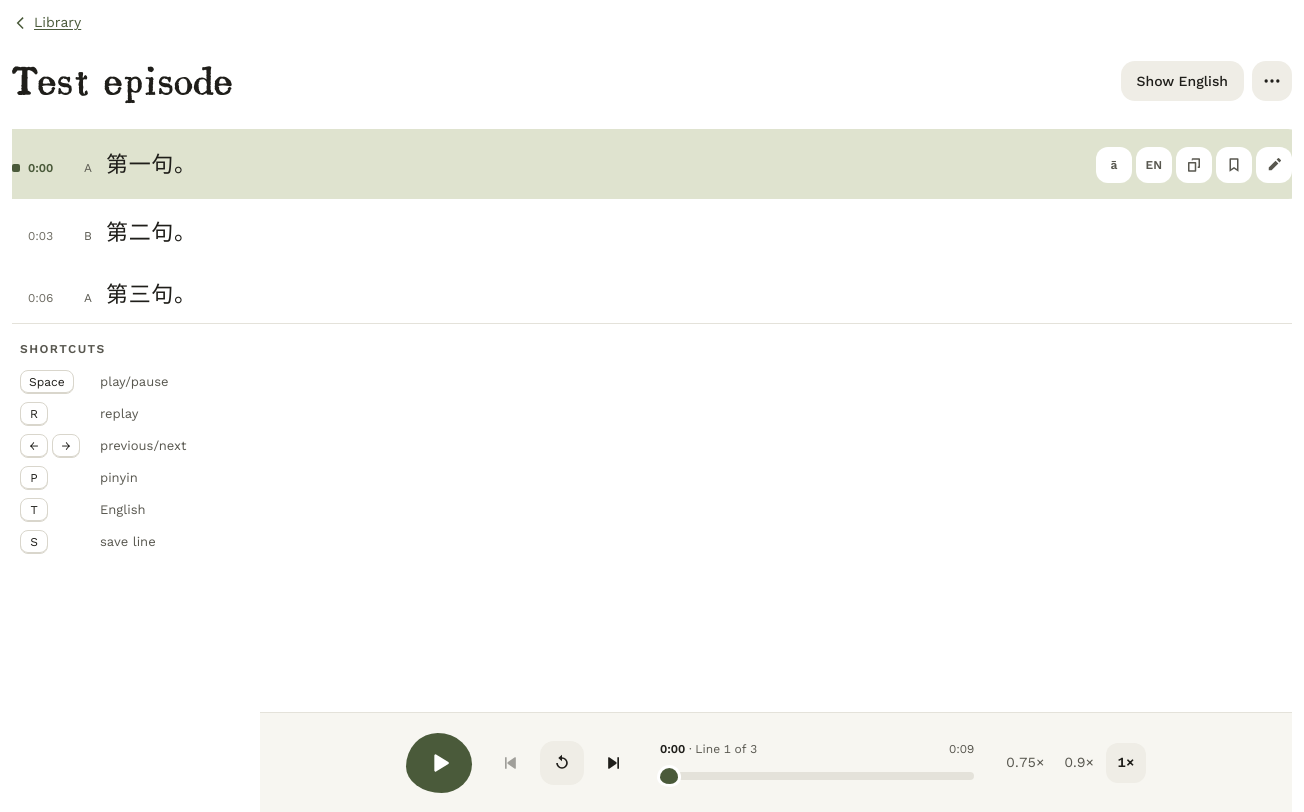
Test: EpisodePage — translation › can be shown and hidden for all lines from the header (demo build)
Click the button named "Transcript actions".
click(1272, 81)  # box x1=1252 y1=61 x2=1292 y2=101
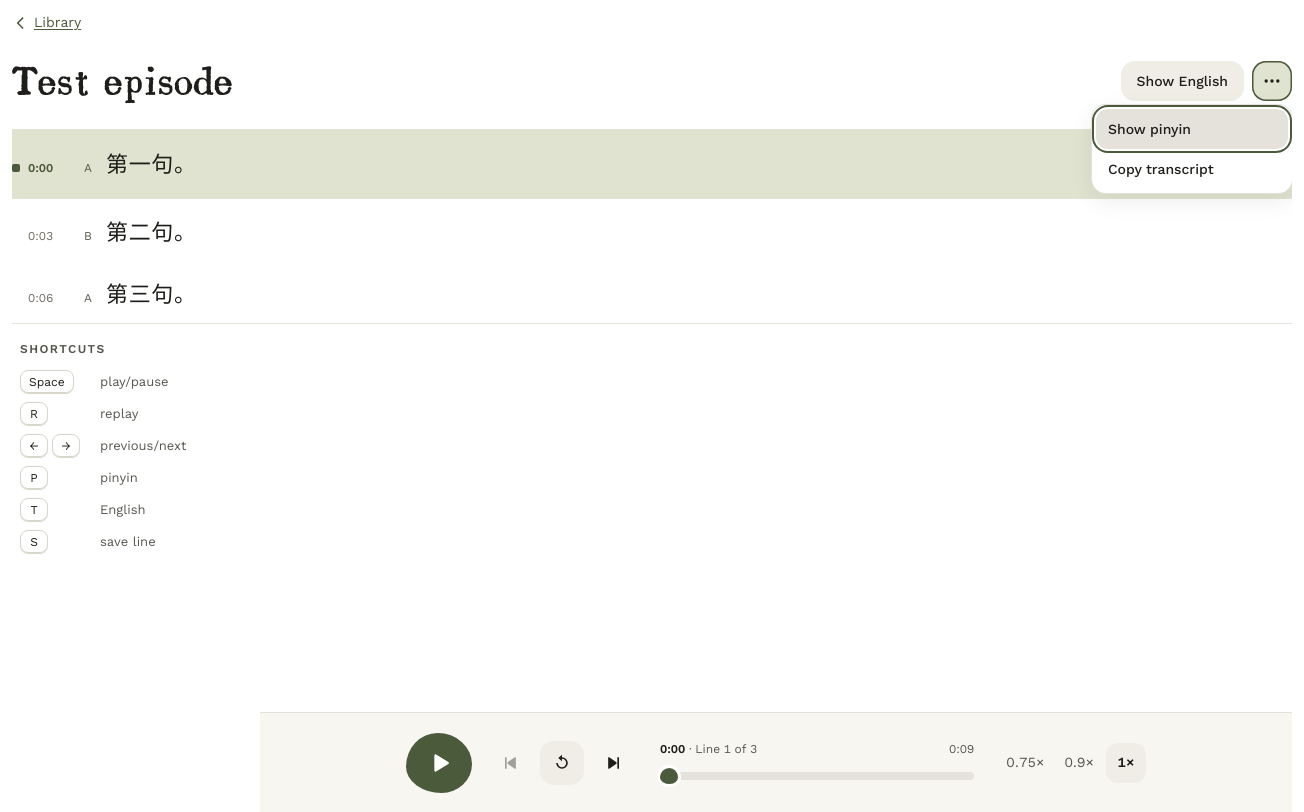
expect the menu item "Show pinyin" is shown: met, box x1=1096 y1=109 x2=1288 y2=149
Press Escape
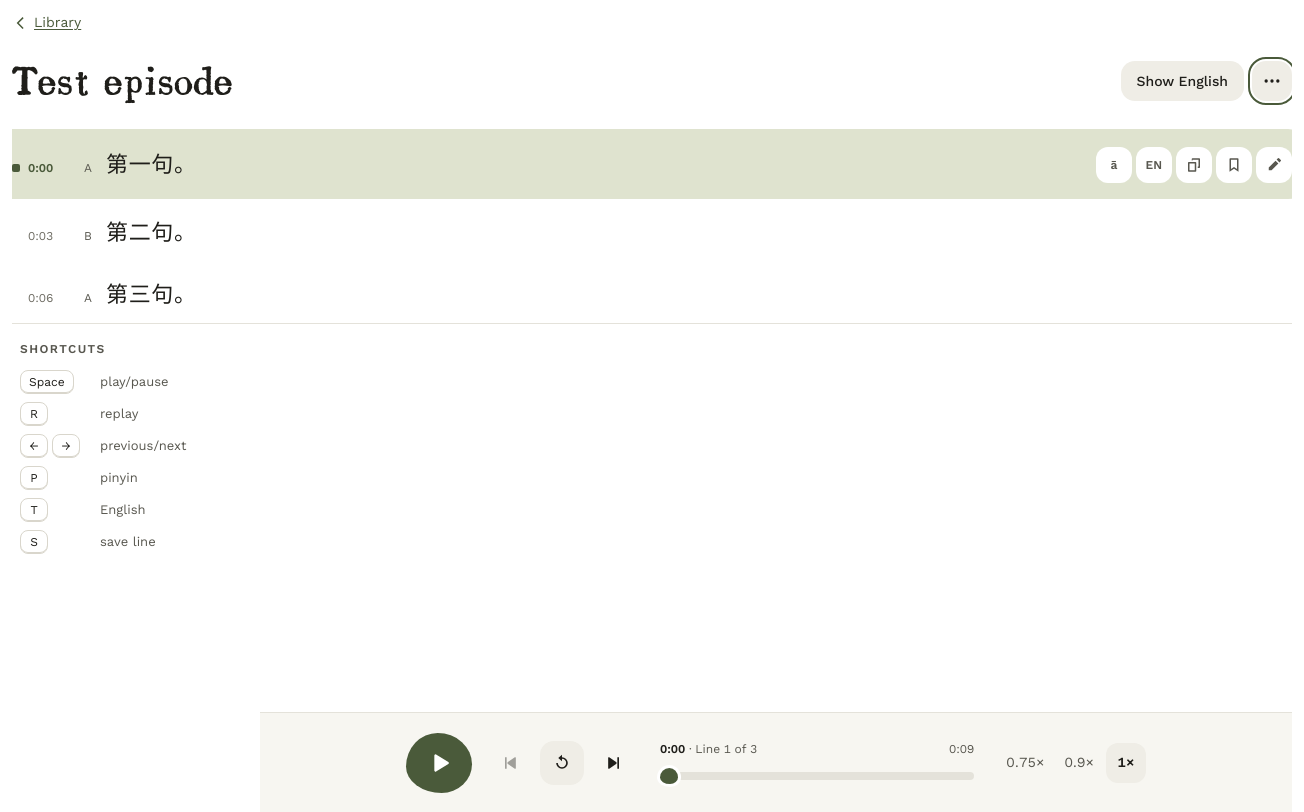
Click the button "Show English".
click(1182, 81)  # box x1=1120 y1=61 x2=1244 y2=101
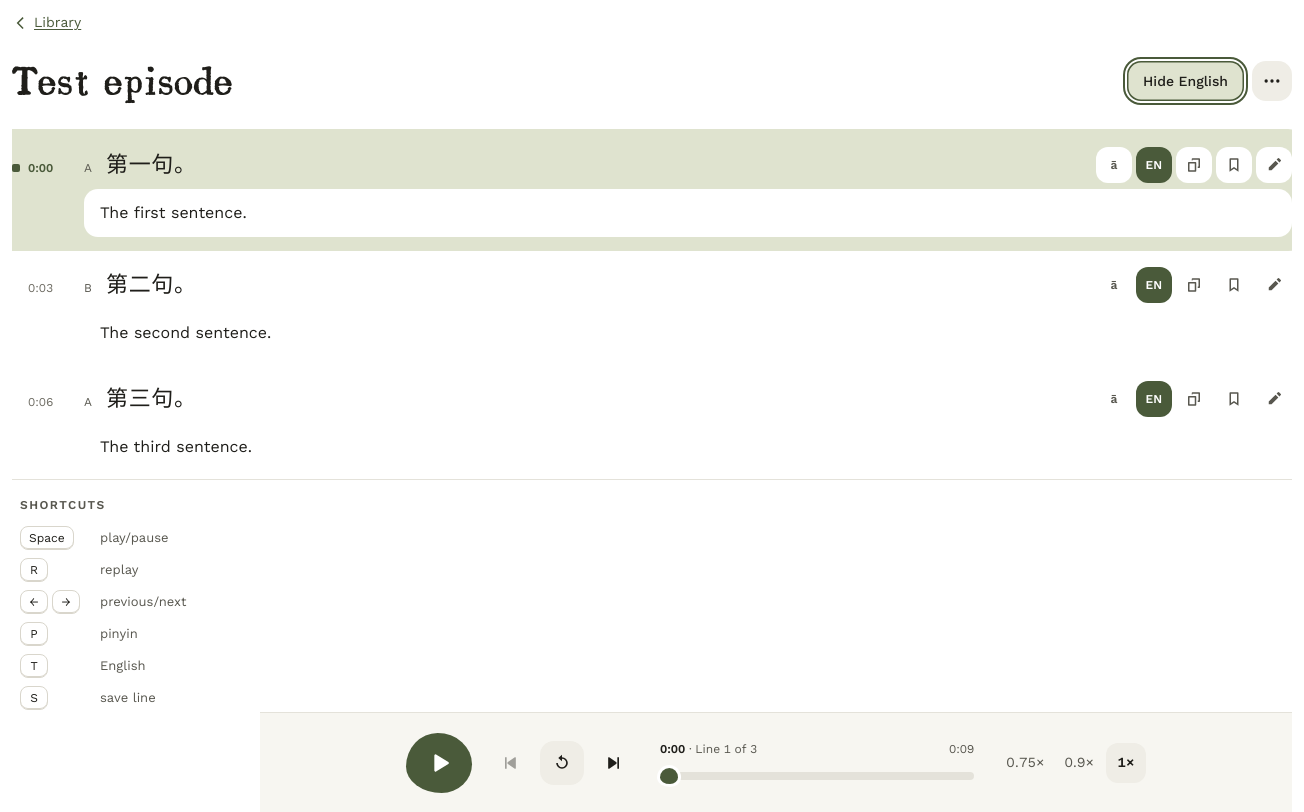
expect the text "The first sentence." is shown: met, box x1=100 y1=203 x2=247 y2=222
expect the text "The second sentence." is shown: met, box x1=100 y1=323 x2=271 y2=342
Click the button "Hide English".
click(1186, 81)  # box x1=1127 y1=61 x2=1244 y2=101
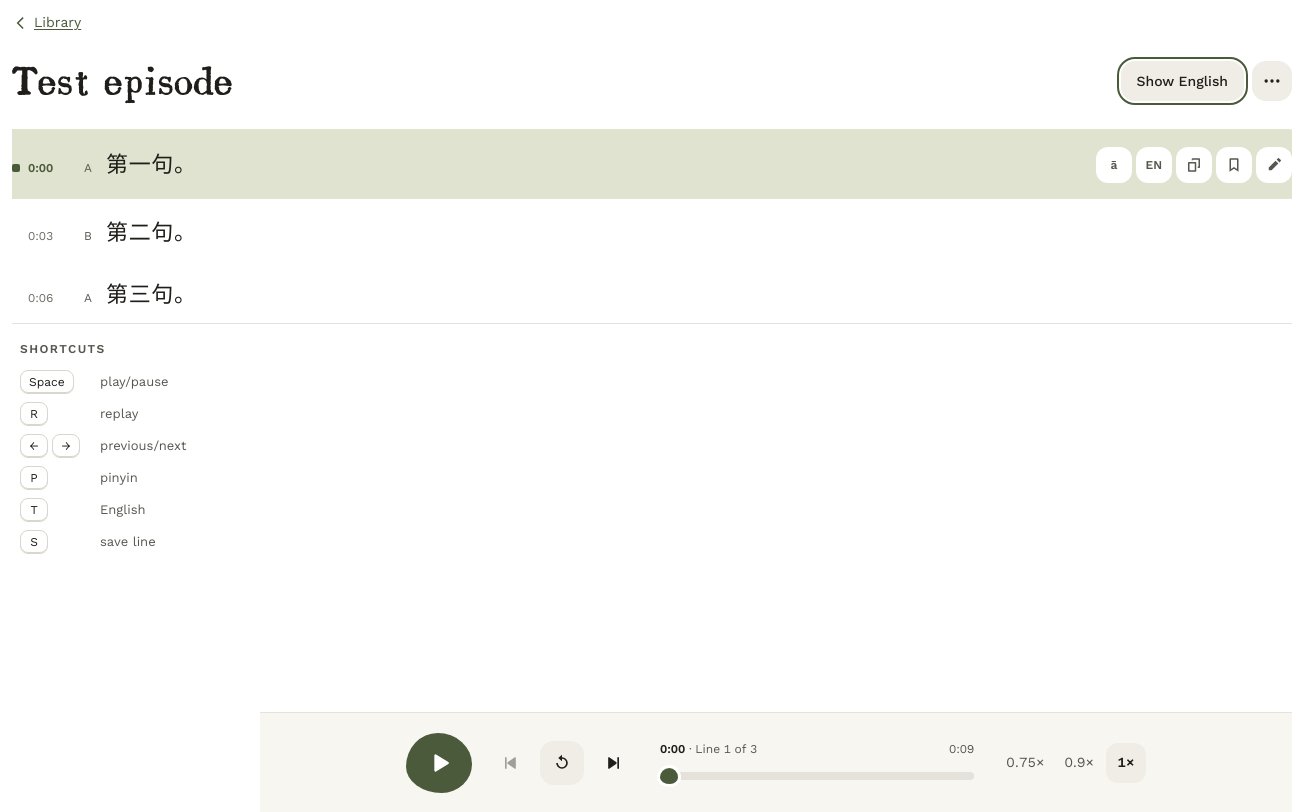
expect the text "The first sentence." is gone: met
Click the button "Show English".
click(1182, 81)  # box x1=1120 y1=61 x2=1244 y2=101
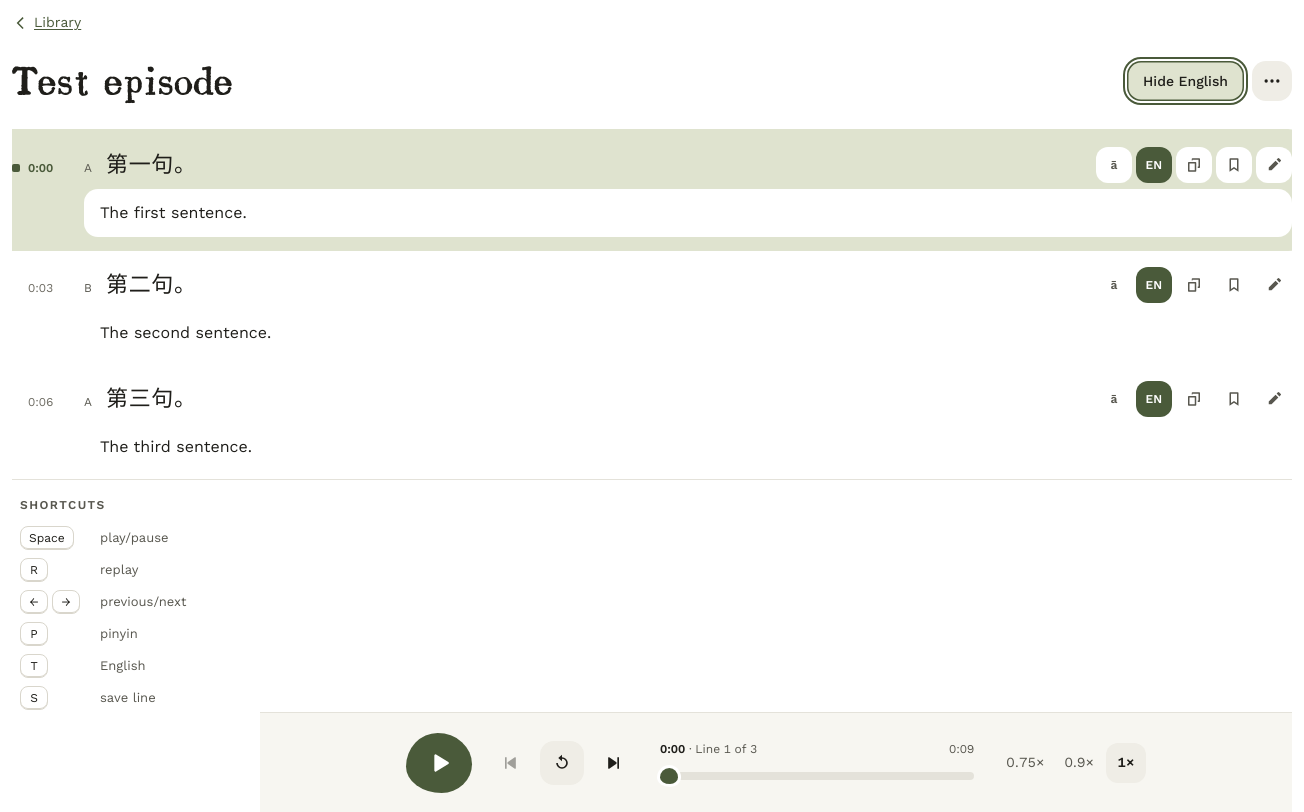
expect the text "The first sentence." is shown: met, box x1=100 y1=203 x2=247 y2=222
